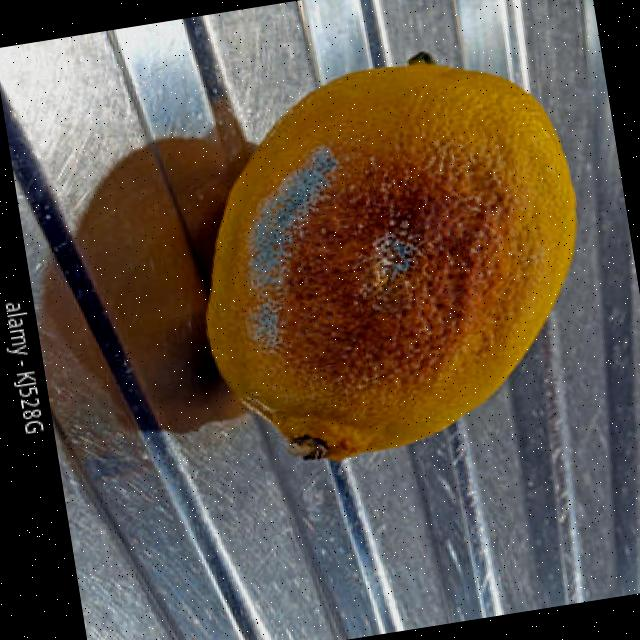overripe: (162, 23, 620, 484)
